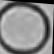no answer: (0, 0, 52, 54)
